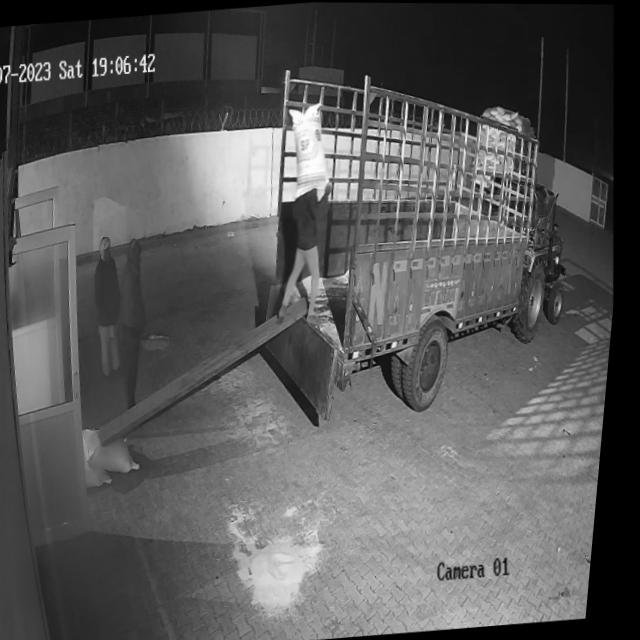sack: (285, 102, 337, 198), (86, 423, 150, 475)
